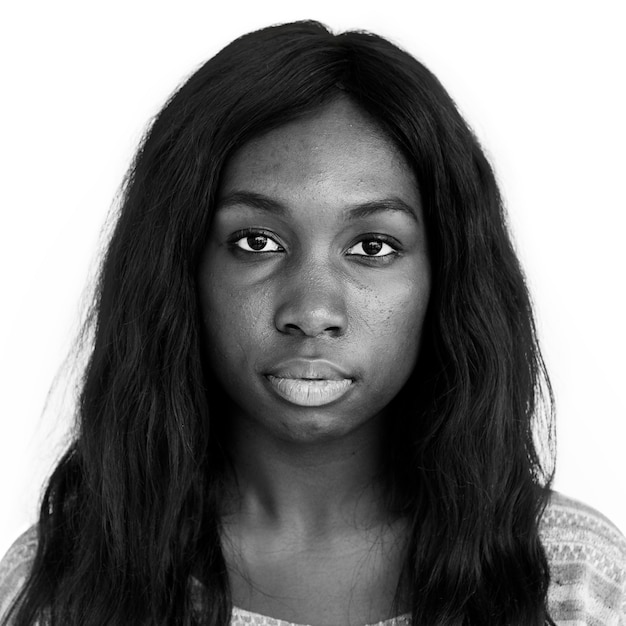teen: (170, 85, 464, 465)
